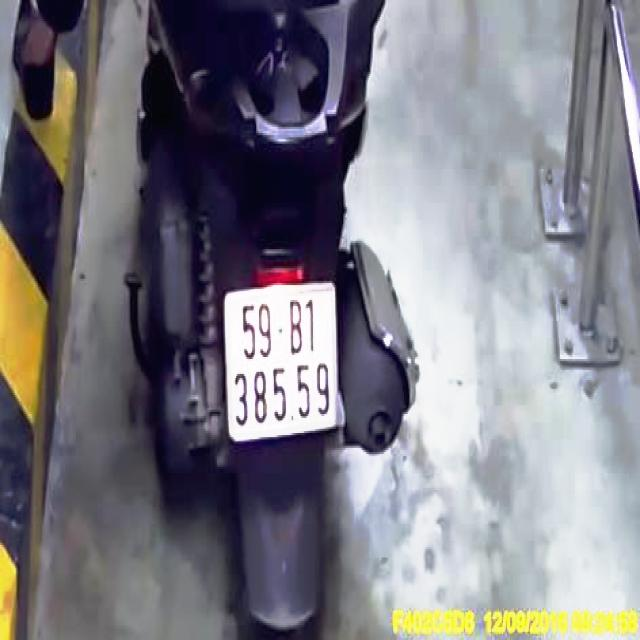license_plate: (229, 287, 340, 434)
